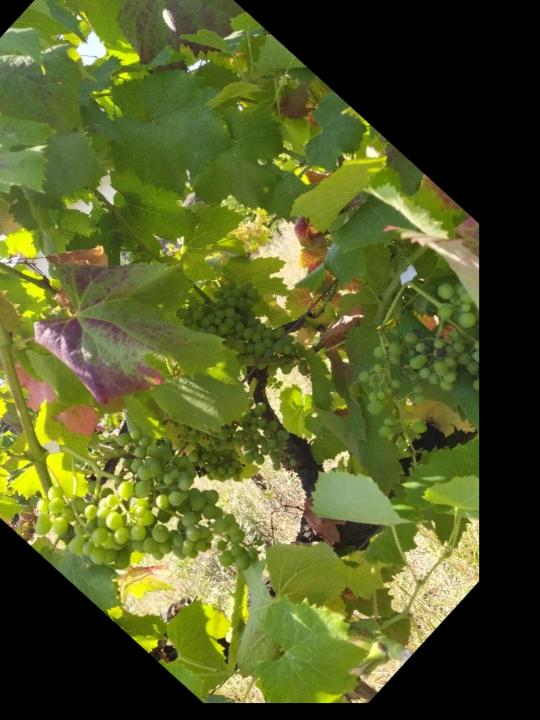grape: (19, 401, 279, 659), (326, 230, 540, 522), (168, 258, 323, 410)
